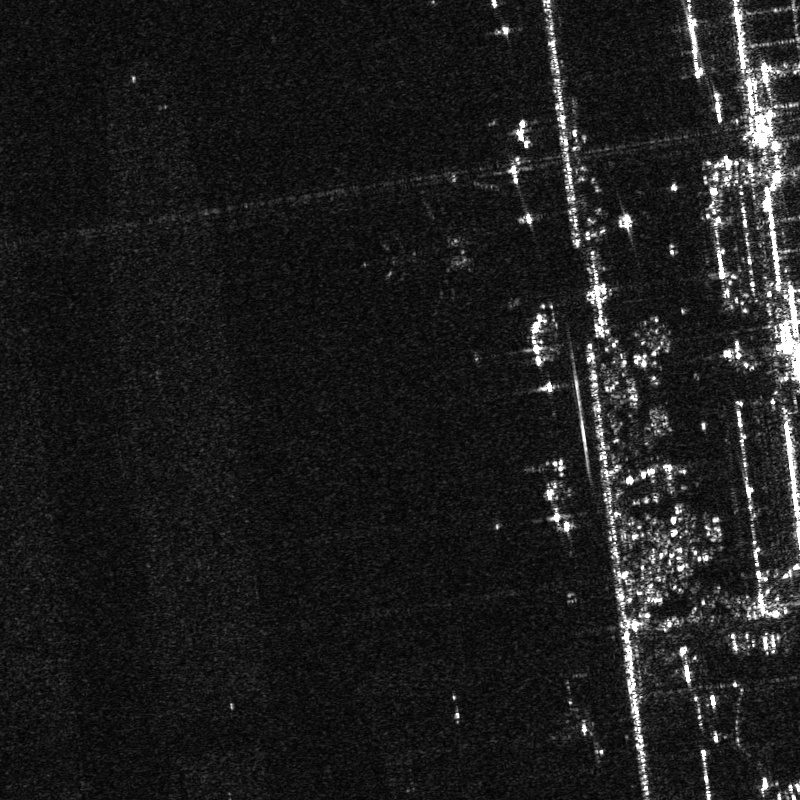Boeing787: (362, 202, 491, 311)
